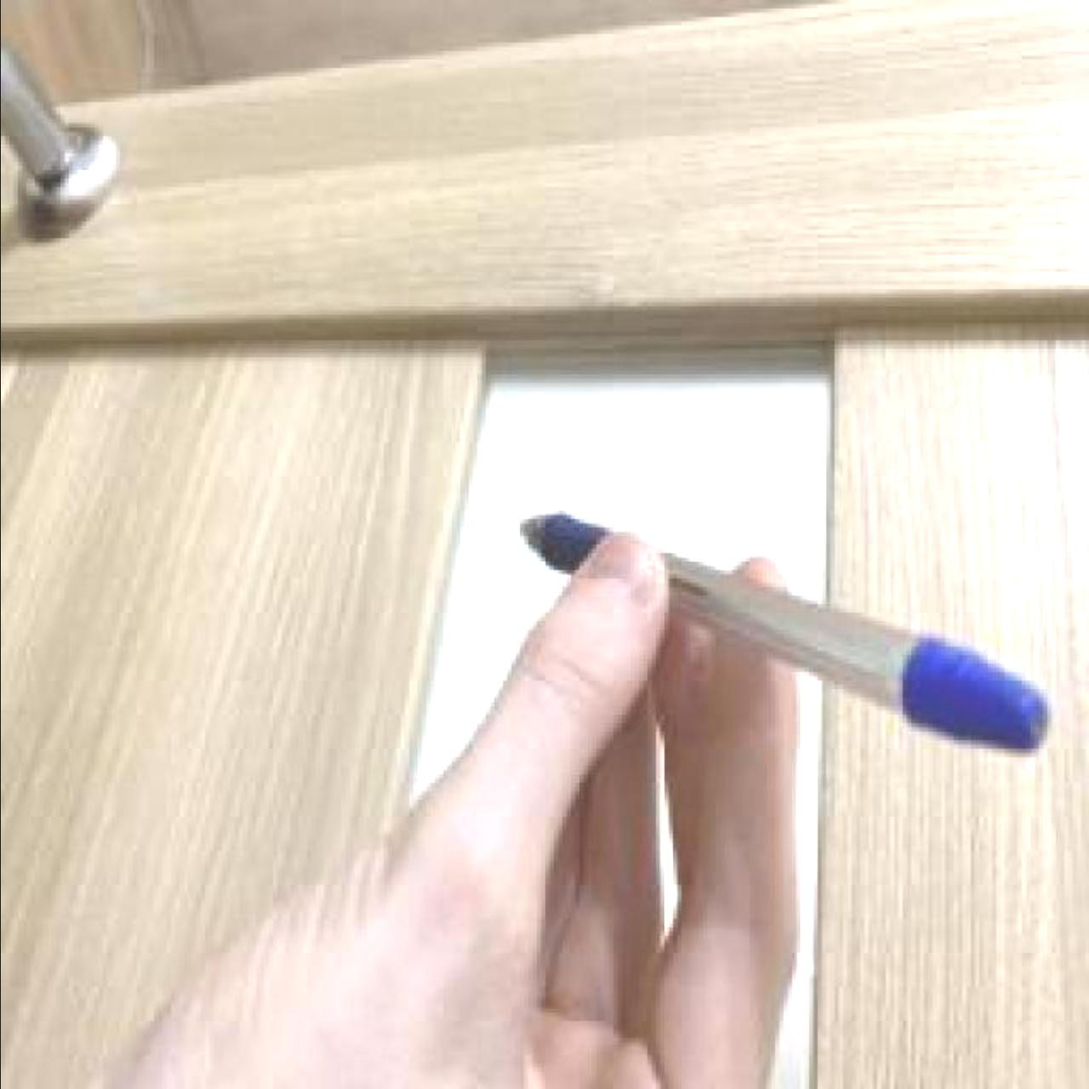pen: (505, 502, 1050, 771)
